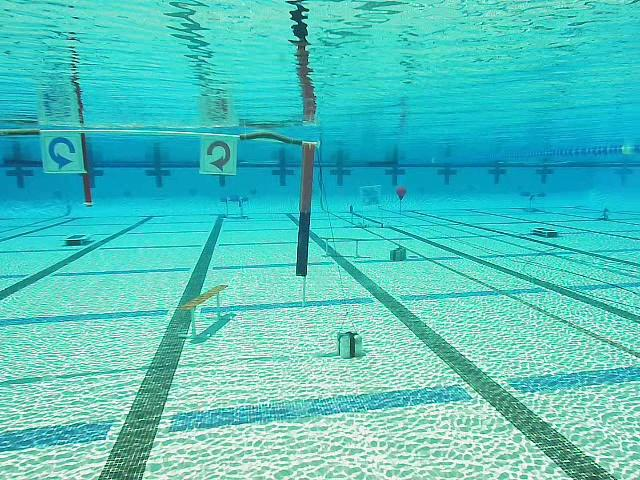buoy: (395, 186, 407, 202)
dropper: (62, 232, 96, 245), (530, 225, 559, 238)
gate_blue: (41, 130, 83, 175)
gate_leg_r: (295, 142, 320, 277)
gate_red: (198, 134, 238, 176)
table: (221, 196, 250, 208)
torpedo: (362, 185, 383, 206)
